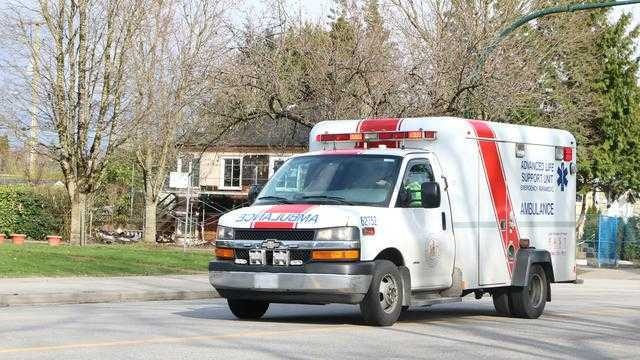Ambulance: (206, 94, 588, 345)
